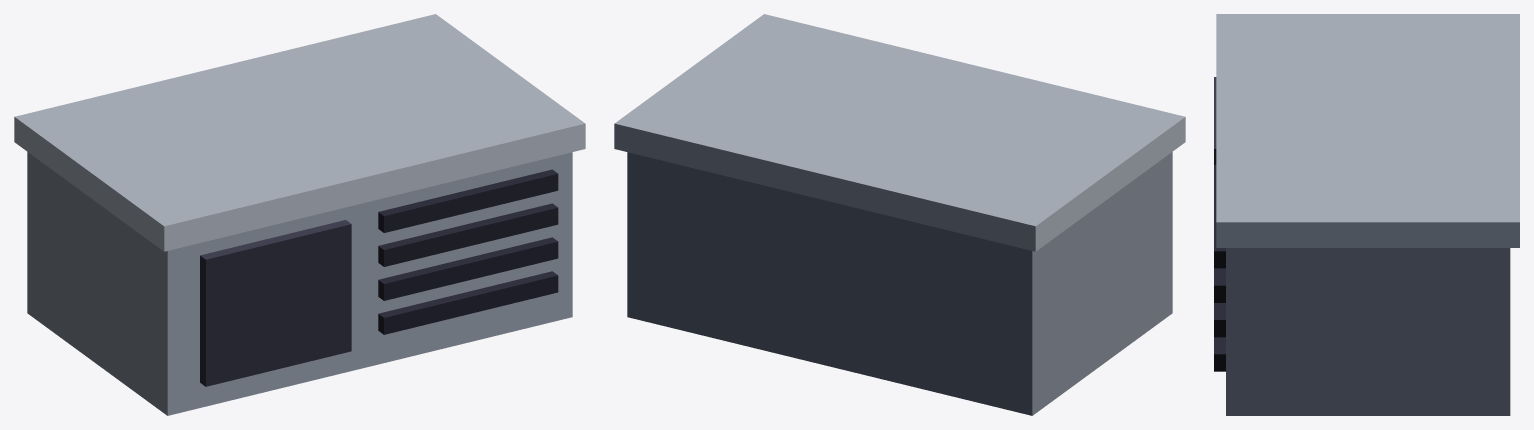
File: bld_acunit.glb
3 views of the same model, side by side, from view 1: azimuth 30°, elevation 25°; view 2: azimuth 150°, elevation 25°; view 3: azimuth 270°, elevation 25° (orthographic).
Visible parts, largest first — view 1: bld_acunit; view 2: bld_acunit; view 3: bld_acunit.
Part boxes in pixels (x1,y1,x2,y2): bld_acunit: (14, 14, 585, 415); bld_acunit: (614, 14, 1185, 415); bld_acunit: (1214, 14, 1519, 415).
Size of the model in its own units: 1.04 by 0.46 by 0.645.
